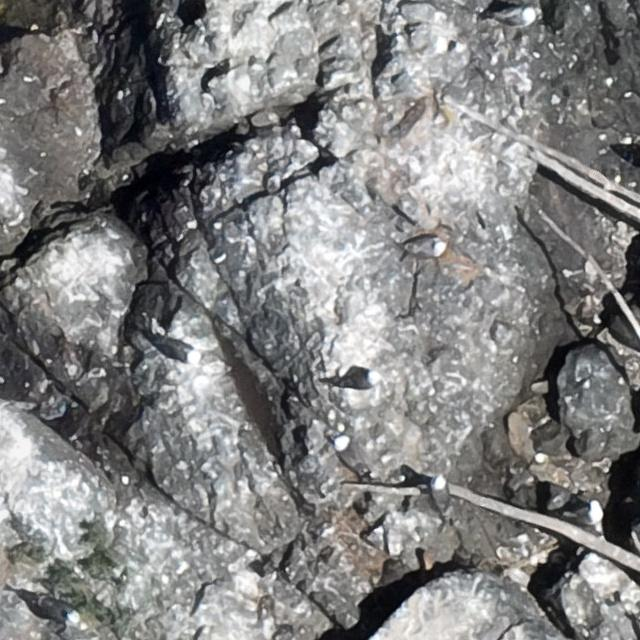umineko: (34, 598, 82, 629), (160, 336, 204, 366), (560, 502, 604, 526), (340, 370, 378, 389), (496, 8, 535, 26), (410, 237, 442, 256), (335, 437, 354, 465), (432, 479, 448, 512)
